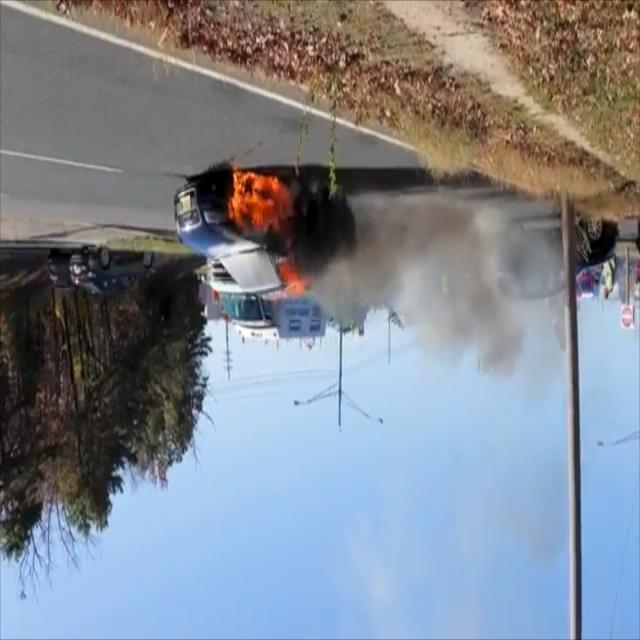fire: (229, 166, 307, 305)
